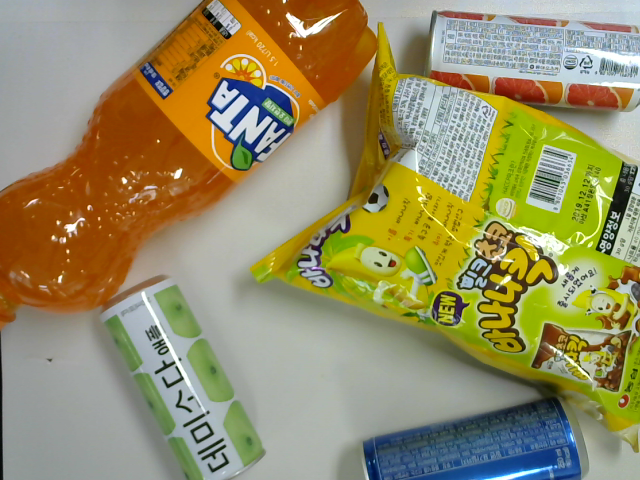Banana_Kick: (245, 18, 640, 454)
Demisoda_Apple_Can_250ml: (94, 271, 270, 480)
Demisoda_Grapefruit_Can_250ml: (423, 9, 640, 113)
Hwanta_Orange_1.5L: (1, 1, 379, 332)
Pepsi_Cola_Can_250ml: (359, 394, 591, 480)
